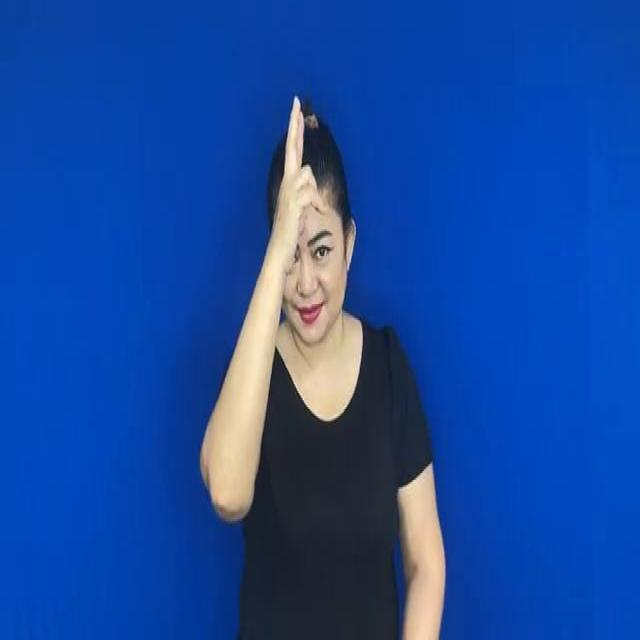crab: (274, 98, 328, 280)
